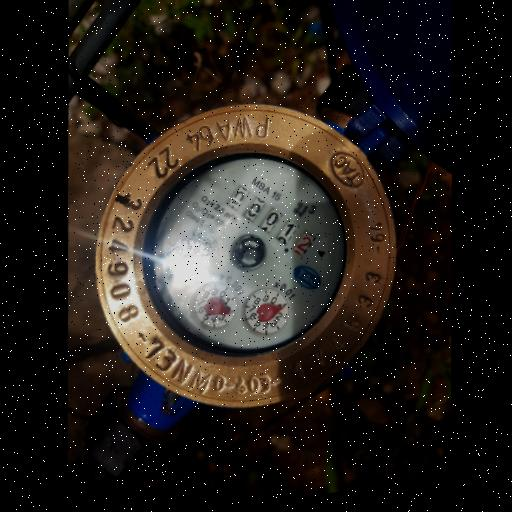0: (241, 195, 267, 223), (259, 206, 283, 234), (226, 184, 250, 211)
1: (274, 217, 299, 246)
2: (291, 230, 317, 258)
border_water_meter_number: (221, 175, 323, 268)
